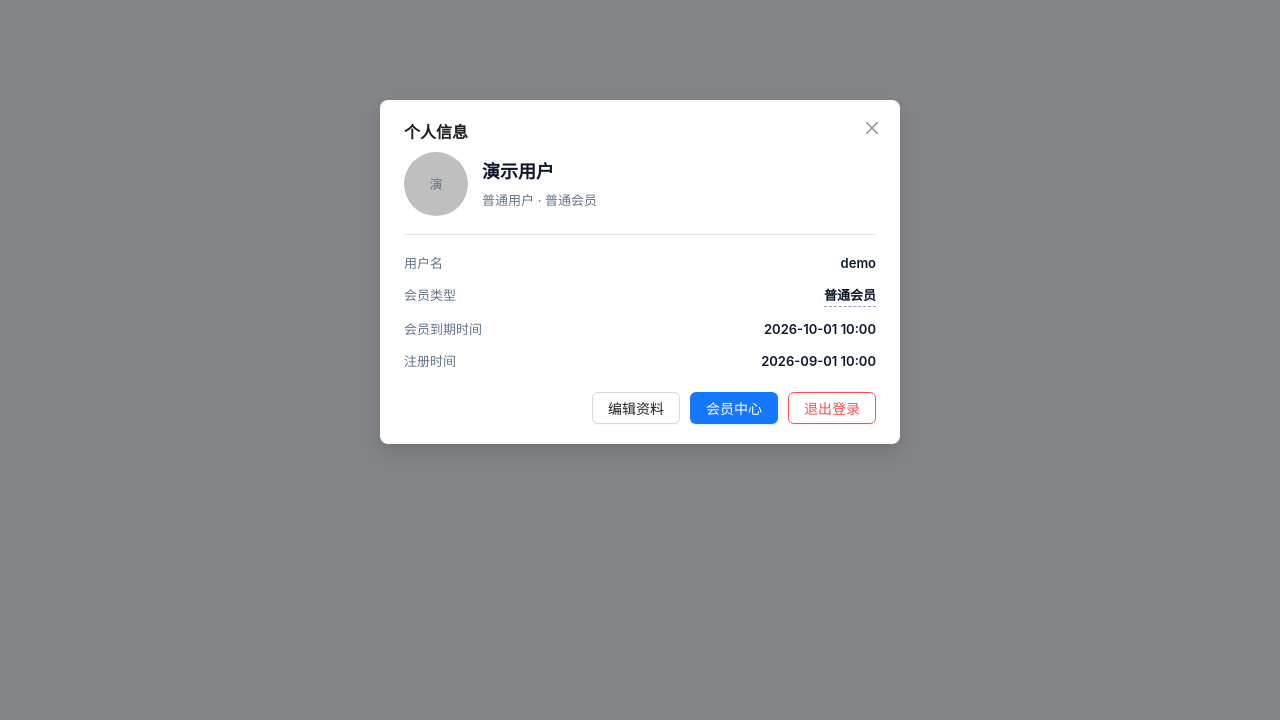
Test: UserInfoModal › shows cancel membership popover and cancels membership
The image size is (1280, 720).
Hover over the text "普通会员": (850, 296) [824, 285, 876, 307]
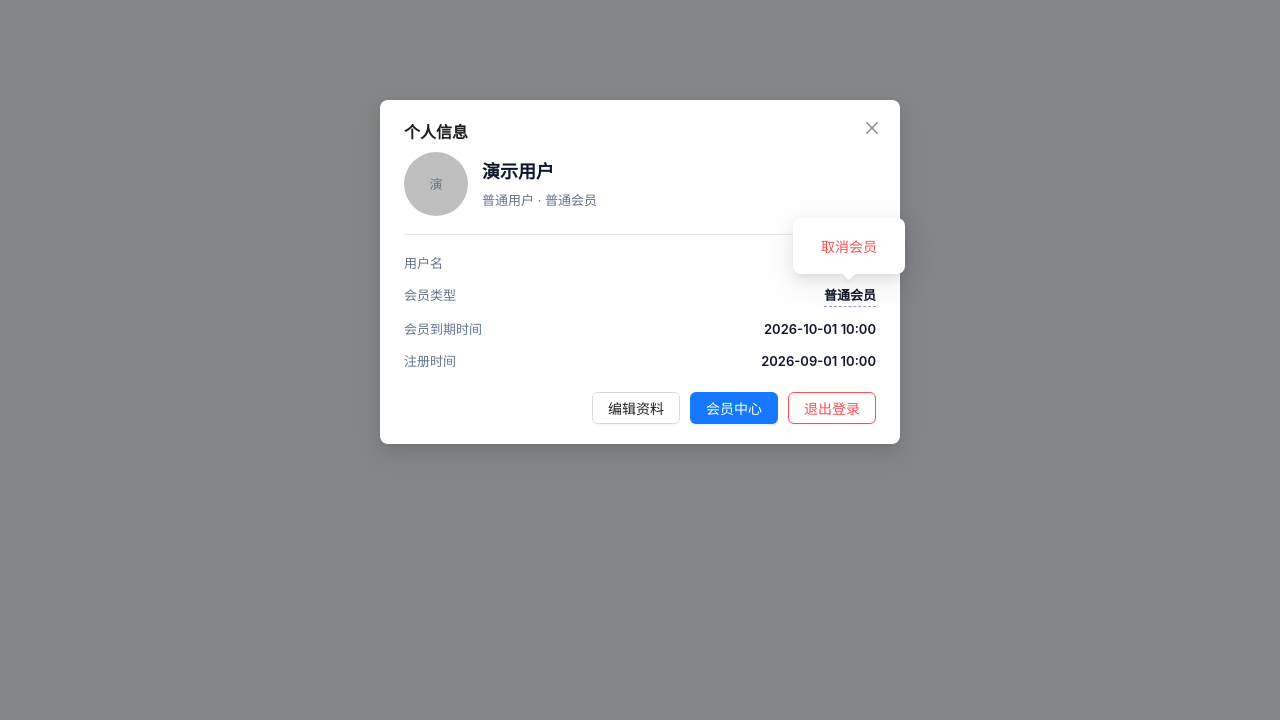
Click the button "取消会员": click(849, 246) [805, 230, 893, 262]
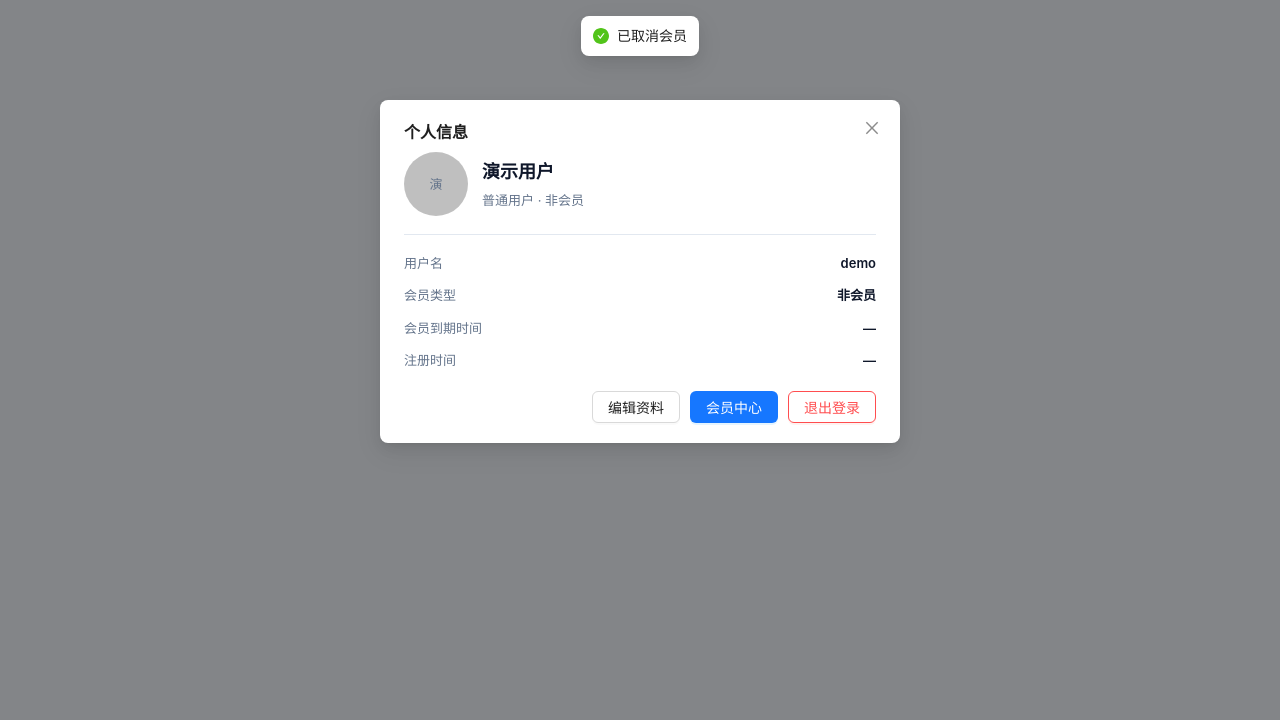
Result: the text "非会员" is shown at [837, 285, 876, 306]
